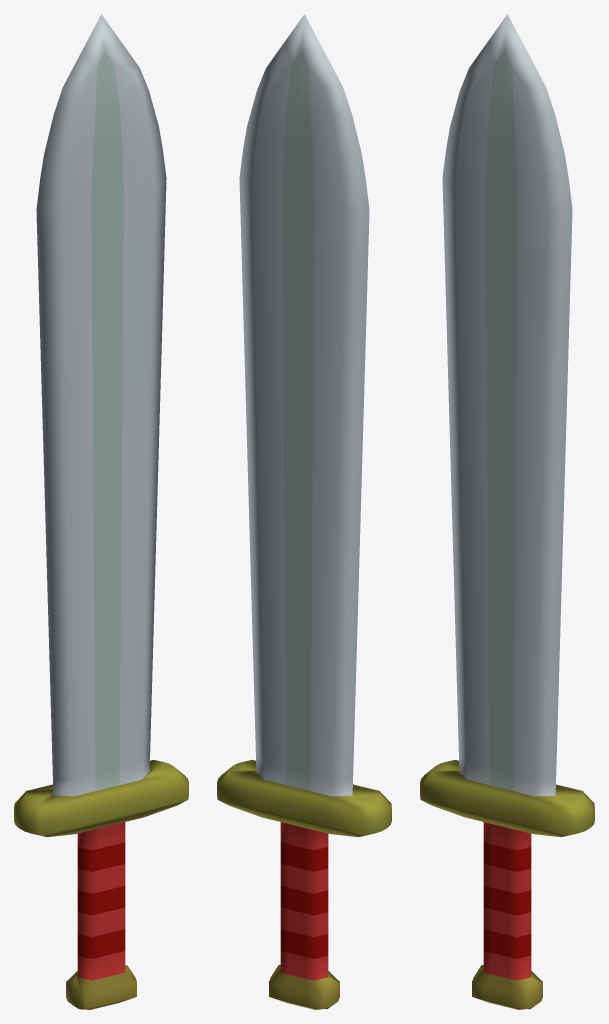
File: sword1LowPoly.fbx
The picture shows the model from 3 angles, left to right: view 1: azimuth 30°, elevation 25°; view 2: azimuth 150°, elevation 25°; view 3: azimuth 330°, elevation 25°; orthographic projection.
Visible parts, largest first — view 1: Cube; view 2: Cube; view 3: Cube.
Part boxes in pixels (x1,y1,x2,y2): Cube: [14, 14, 188, 1009]; Cube: [217, 14, 391, 1009]; Cube: [420, 14, 594, 1009].
Size of the model in its own units: 20.5 by 117 by 5.67.
